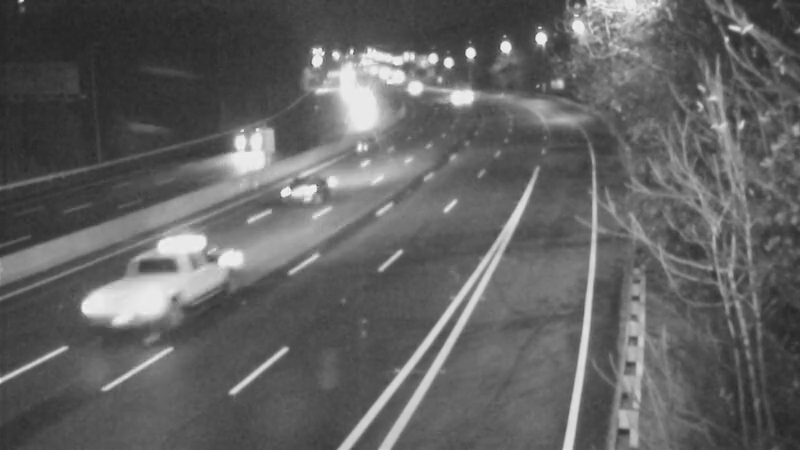vehicle: (261, 146, 341, 226), (109, 248, 189, 328), (390, 61, 440, 111), (428, 69, 478, 119), (220, 120, 270, 170), (335, 93, 385, 143)
